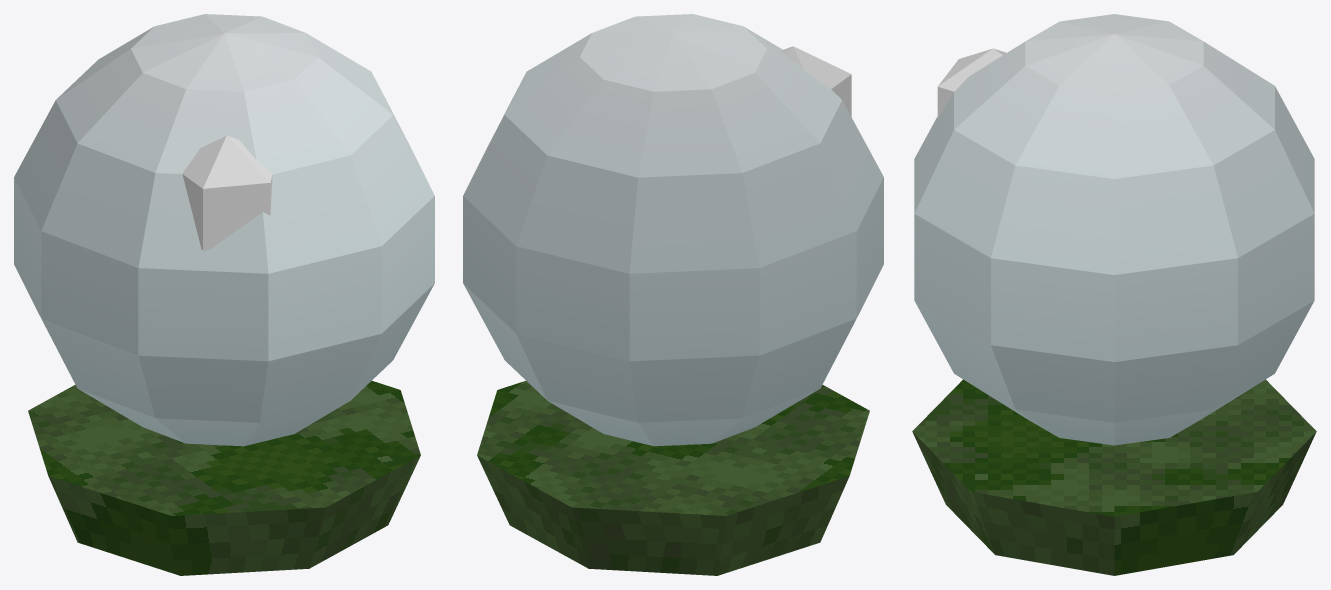
File: spring_pearl.glb
The picture shows the model from 3 angles, left to right: view 1: azimuth 30°, elevation 25°; view 2: azimuth 150°, elevation 25°; view 3: azimuth 270°, elevation 25°; orthographic projection.
Visible parts, largest first — view 1: spring_pearl; view 2: spring_pearl; view 3: spring_pearl.
Part boxes in pixels (x1=…): spring_pearl: x1=14, y1=14, x2=434, y2=575; spring_pearl: x1=463, y1=14, x2=883, y2=575; spring_pearl: x1=912, y1=14, x2=1316, y2=575.
Bounding box in the file's own units: 0.624 × 0.77 × 0.6.
2 materials, 1 textured.
